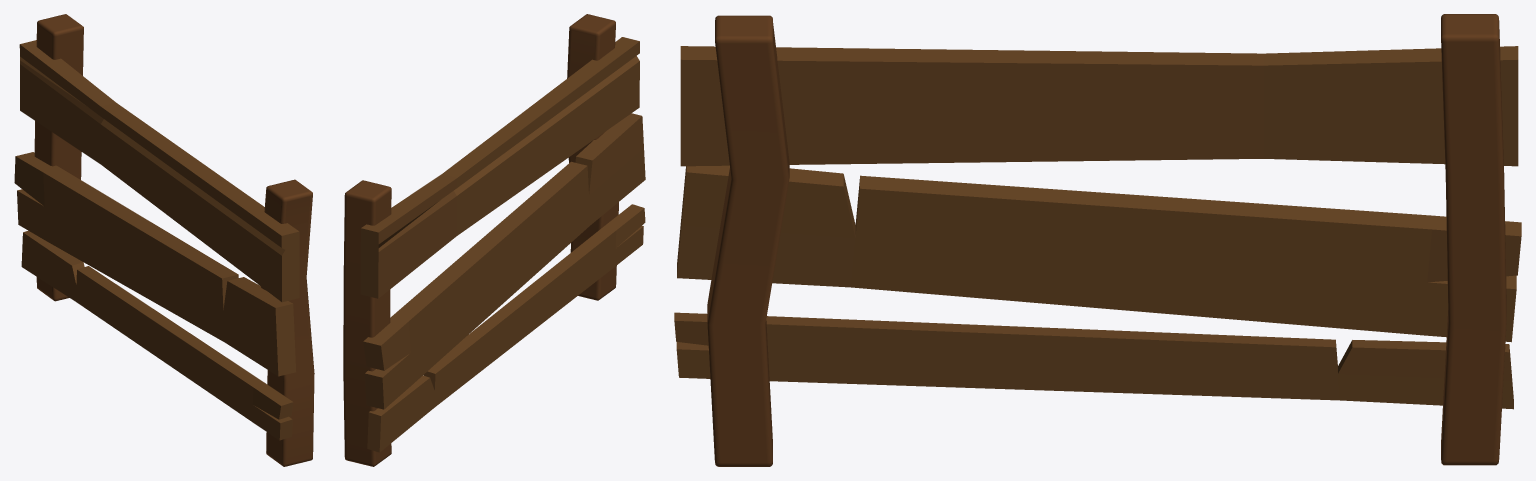
Rendered from SM_Zaun.fbx.
3 views of the same model, side by side, from view 1: azimuth 30°, elevation 25°; view 2: azimuth 150°, elevation 25°; view 3: azimuth 270°, elevation 25° (orthographic). The views are drawn at different scales.
Visible parts, largest first — view 1: Zaun.001; view 2: Zaun.001; view 3: Zaun.001.
Part boxes in pixels (bbox=[...]): Zaun.001: bbox=[14, 14, 314, 466]; Zaun.001: bbox=[343, 14, 645, 466]; Zaun.001: bbox=[674, 14, 1521, 466].
Size of the model in its own units: 27.31 by 145 by 259.
